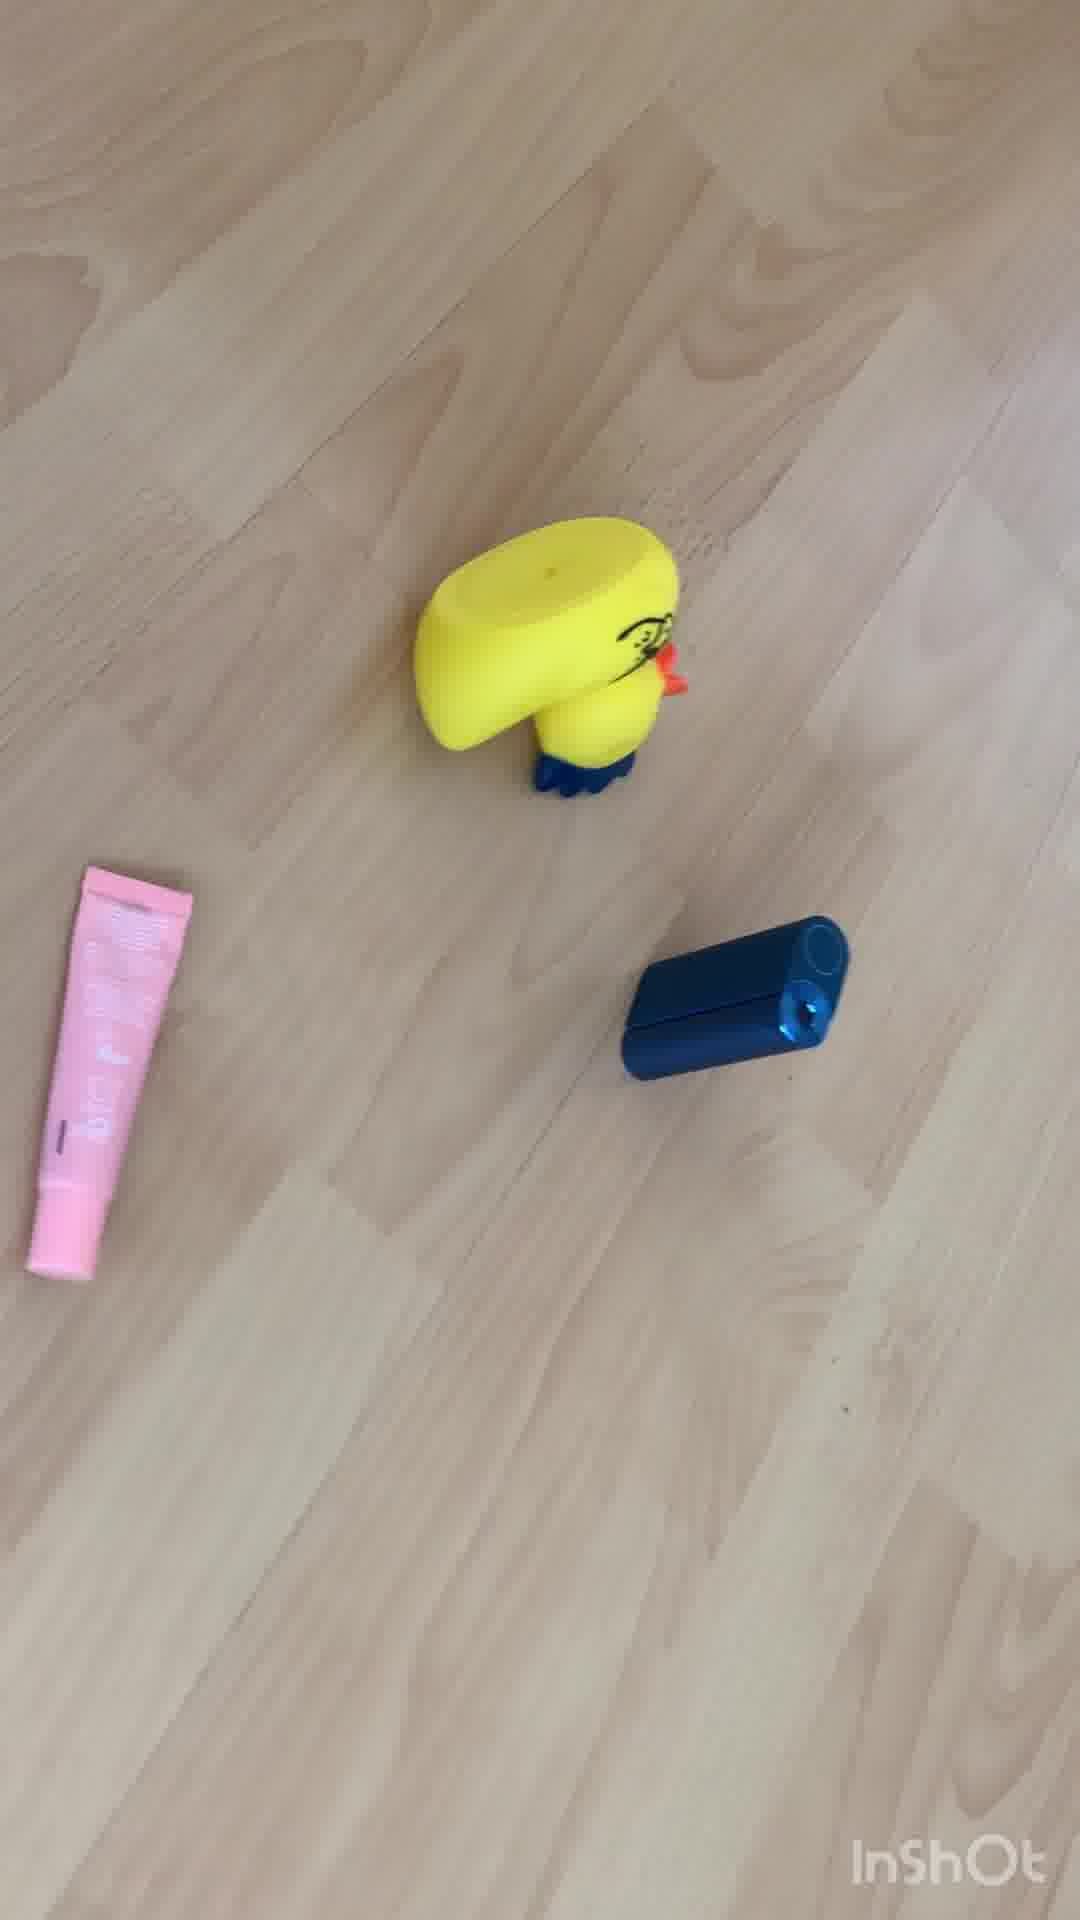duck: (413, 508, 687, 804)
glo: (615, 905, 856, 1095)
lip balm: (21, 864, 203, 1280)
